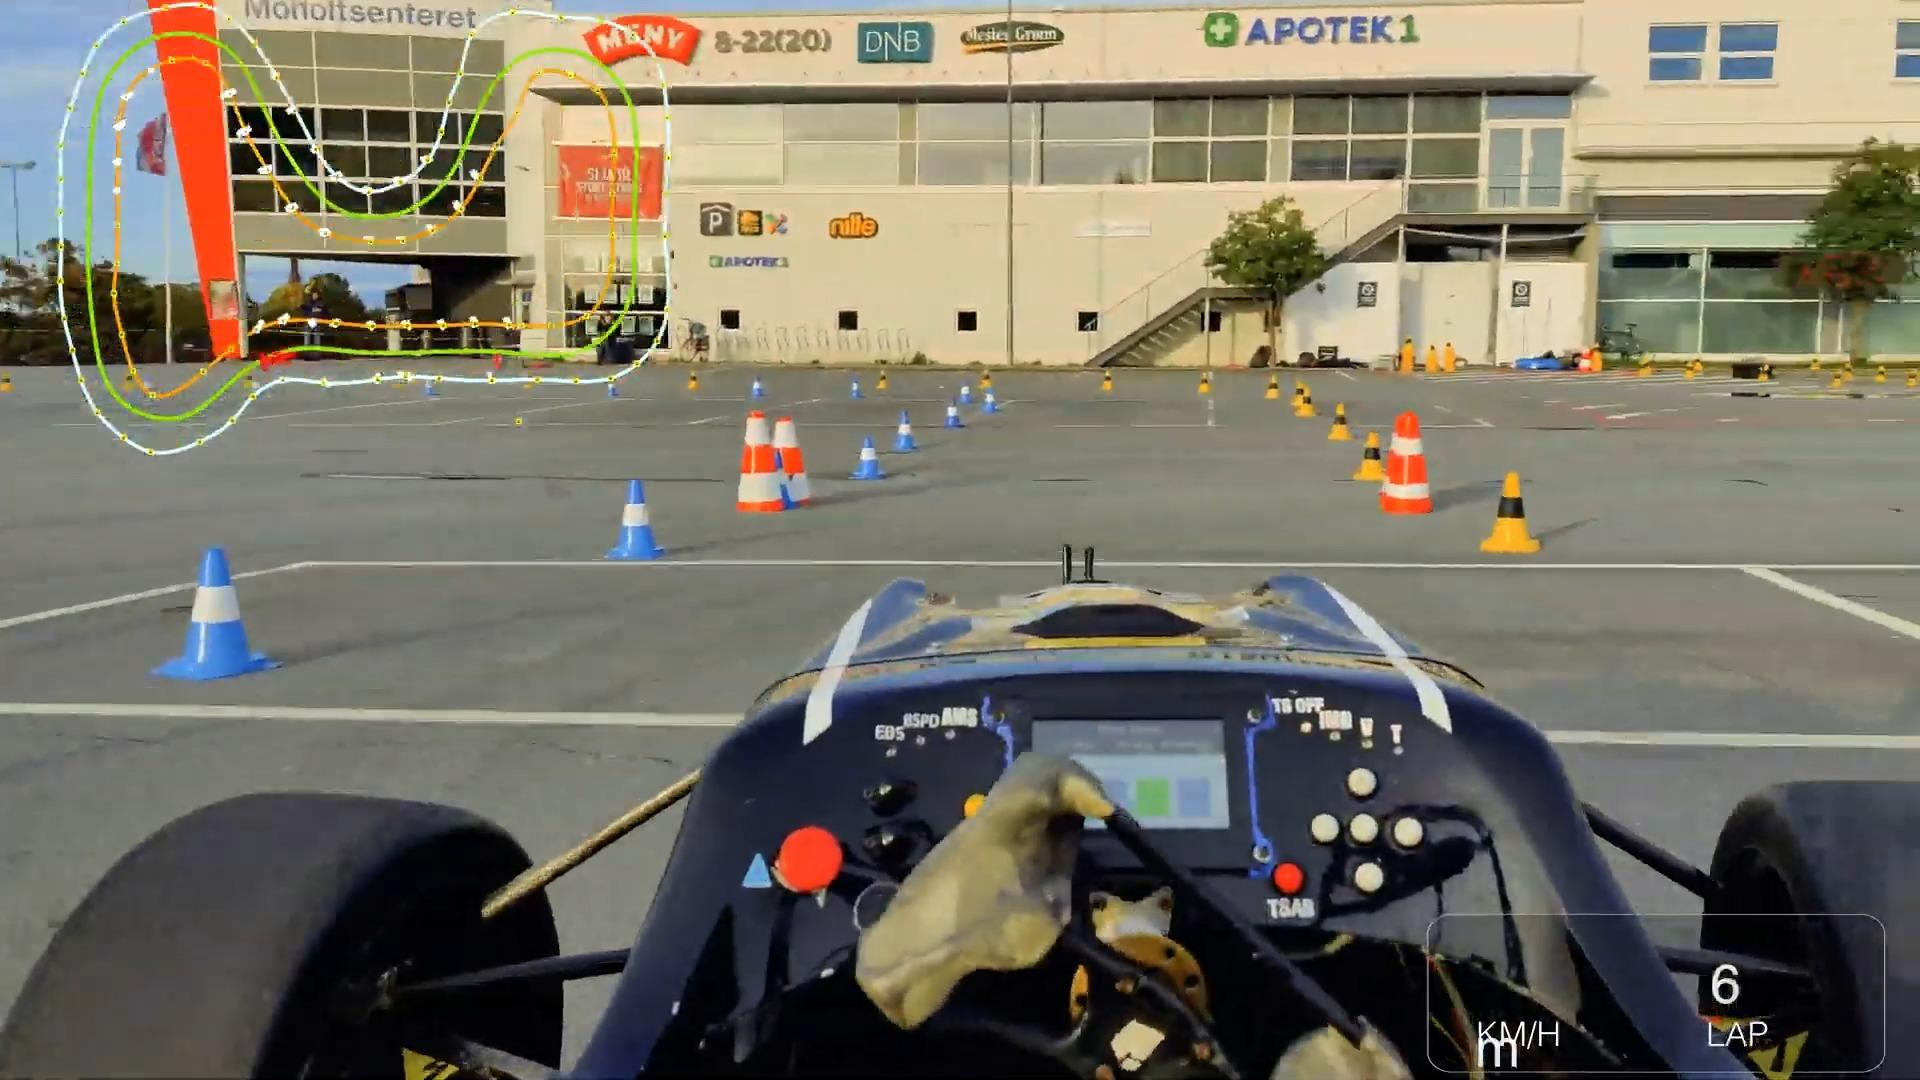blue_cone: (144, 543, 284, 694), (597, 475, 671, 566), (847, 433, 890, 484), (771, 448, 799, 513), (893, 406, 922, 455), (943, 396, 967, 431), (981, 386, 1001, 417), (749, 375, 770, 398), (960, 380, 977, 409), (849, 376, 866, 400)
large_orange_cone: (725, 407, 786, 517), (1390, 413, 1439, 516), (767, 413, 815, 509), (1379, 411, 1422, 514)
yellow_cone: (1480, 467, 1547, 559), (1349, 433, 1387, 483), (1328, 401, 1357, 442), (1294, 386, 1320, 418), (1291, 381, 1313, 409), (1263, 375, 1284, 401), (874, 368, 893, 393), (1196, 371, 1213, 394), (1101, 369, 1116, 393), (978, 371, 992, 393)
